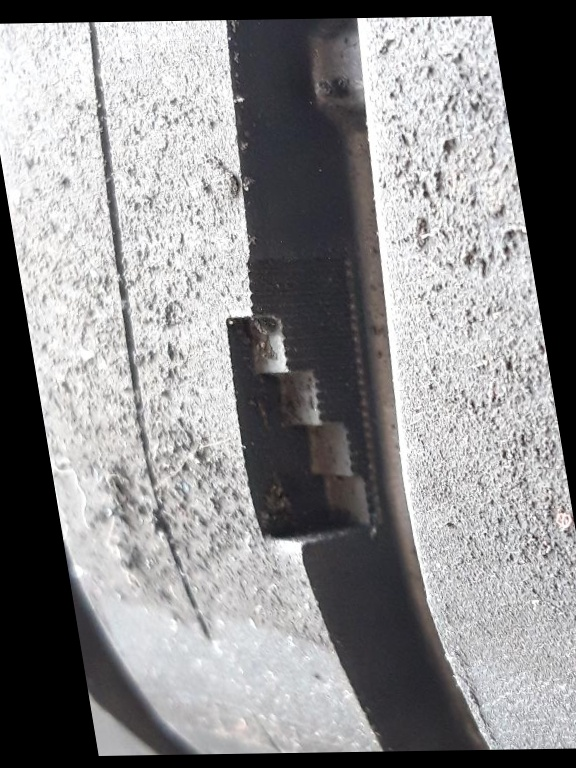temoin:95: (191, 248, 412, 561)
